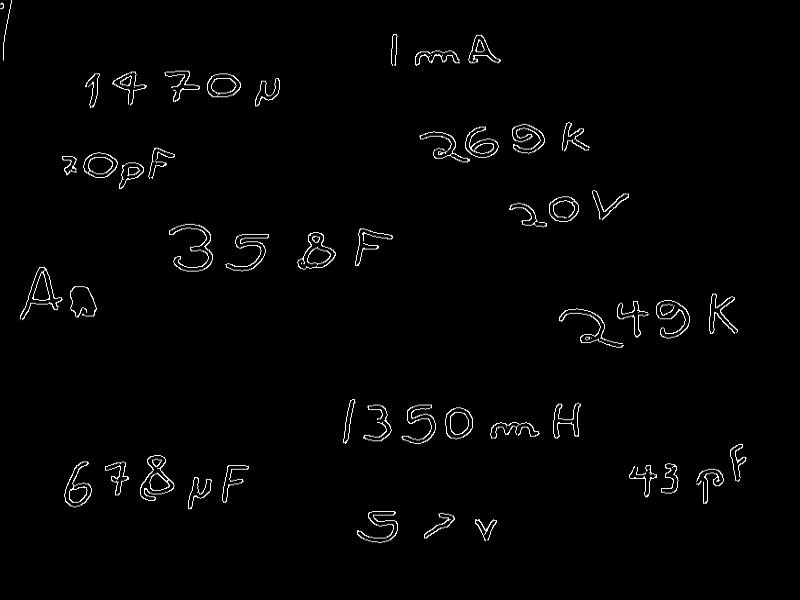0: (443, 403, 476, 442), (204, 69, 243, 100), (80, 149, 120, 179), (546, 193, 583, 225)
1: (81, 71, 104, 110), (340, 395, 357, 446), (386, 30, 402, 69)
2: (556, 304, 627, 352), (415, 126, 471, 166), (506, 199, 550, 228)
3: (165, 218, 216, 276), (361, 400, 394, 444), (657, 460, 682, 499)
4: (613, 299, 652, 341), (109, 69, 150, 108), (625, 462, 660, 499)
5: (221, 229, 273, 274), (352, 506, 400, 545), (399, 402, 437, 448)
6: (61, 458, 96, 511), (461, 124, 501, 162)
7: (163, 66, 203, 106), (419, 509, 459, 542), (102, 459, 130, 497), (59, 153, 80, 176)
8: (136, 453, 177, 503), (294, 229, 338, 272)
9: (653, 297, 692, 342), (510, 121, 549, 156)
A: (16, 264, 66, 325), (465, 32, 503, 66)
F: (351, 225, 397, 268), (220, 462, 254, 504), (147, 145, 179, 181), (726, 442, 750, 484)
H: (550, 398, 585, 438)
V: (590, 187, 630, 223), (471, 515, 498, 545)
k: (704, 290, 740, 336), (559, 119, 593, 154)
m: (488, 418, 542, 441), (411, 46, 463, 69)
p: (693, 466, 726, 506), (117, 160, 147, 193)
u: (185, 474, 215, 514), (250, 76, 283, 110)
